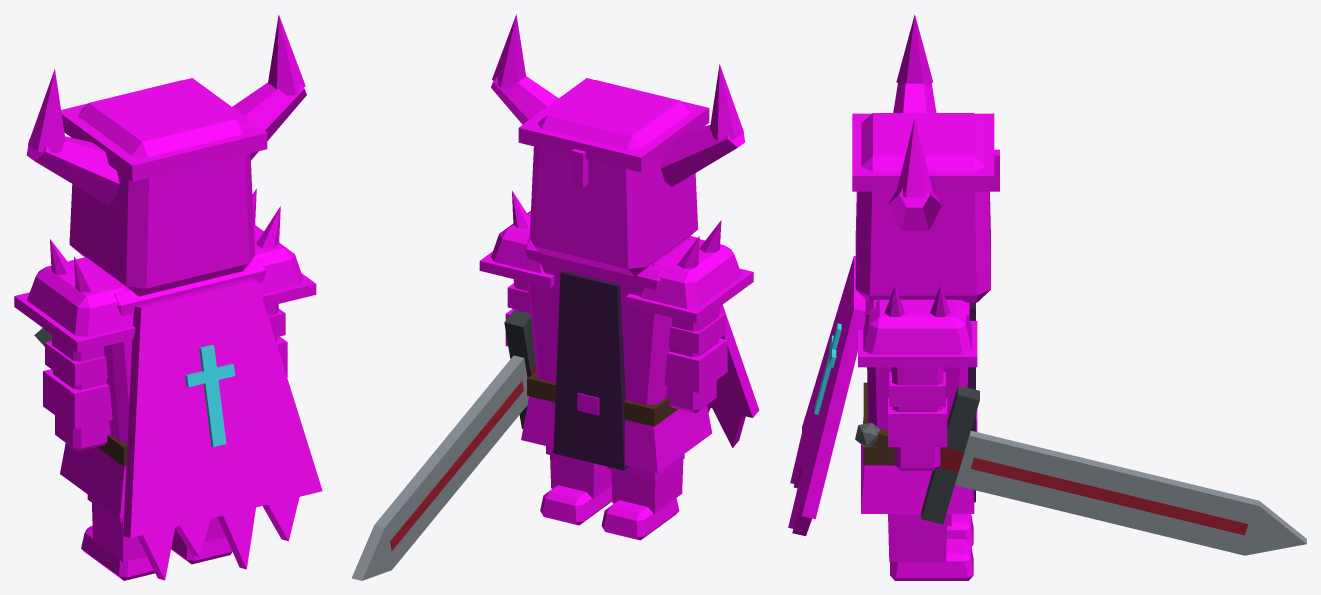
Rendered from CH_BloodKnight_NightKnight.fbx.
3 views of the same model, side by side, from view 1: azimuth 30°, elevation 25°; view 2: azimuth 150°, elevation 25°; view 3: azimuth 270°, elevation 25° (orthographic). The views are drawn at different scales.
Visible parts, largest first — view 1: Cape, Head, HelmRim, PauldronL, Body, HornL, Faulds, GauntletL, HornR, PauldronRimL, PauldronR, HornTipL (+18 smaller); view 2: Head, Tabard, Blade, Body, Faulds, HelmRim, PauldronL, HornL, Cape, LegL, GauntletL, FootL (+16 smaller); view 3: Head, Blade, Cape, PauldronR, Faulds, HelmRim, Fuller, Guard, Body, GauntletR, LegR, FootR (+10 smaller).
Part boxes in pixels (left/top/right/bottom): Cape: left=123, top=278, right=322, bottom=537; Head: left=69, top=80, right=254, bottom=296; HelmRim: left=61, top=78, right=267, bottom=181; PauldronL: left=27, top=258, right=133, bottom=336; Body: left=70, top=257, right=265, bottom=442; HornL: left=26, top=136, right=119, bottom=204; Faulds: left=60, top=443, right=126, bottom=517; GauntletL: left=43, top=369, right=112, bottom=429; HornR: left=232, top=82, right=306, bottom=159; PauldronRimL: left=14, top=292, right=135, bottom=352; PauldronR: left=252, top=225, right=303, bottom=294; HornTipL: left=28, top=69, right=65, bottom=153; Head: left=529, top=80, right=698, bottom=276; Tabard: left=553, top=270, right=629, bottom=470; Blade: left=352, top=355, right=528, bottom=580; Body: left=525, top=236, right=696, bottom=404; Faulds: left=521, top=396, right=712, bottom=473; HelmRim: left=518, top=78, right=709, bottom=172; PauldronL: left=639, top=237, right=742, bottom=308; HornL: left=660, top=125, right=744, bottom=186; Cape: left=690, top=236, right=759, bottom=417; LegL: left=611, top=460, right=683, bottom=513; GauntletL: left=664, top=338, right=727, bottom=392; FootL: left=601, top=498, right=679, bottom=540; Head: left=855, top=113, right=990, bottom=302; Blade: left=955, top=430, right=1306, bottom=555; Cape: left=802, top=255, right=865, bottom=519; PauldronR: left=863, top=299, right=971, bottom=354; Faulds: left=861, top=417, right=974, bottom=513; HelmRim: left=852, top=113, right=994, bottom=191; Fuller: left=971, top=457, right=1247, bottom=535; Guard: left=921, top=386, right=979, bottom=524; Body: left=865, top=299, right=969, bottom=429; GauntletR: left=888, top=398, right=947, bottom=447; LegR: left=888, top=514, right=946, bottom=562; FootR: left=890, top=539, right=973, bottom=580.
Bounding box in the file's own units: 1.05 × 1.83 × 1.91.
